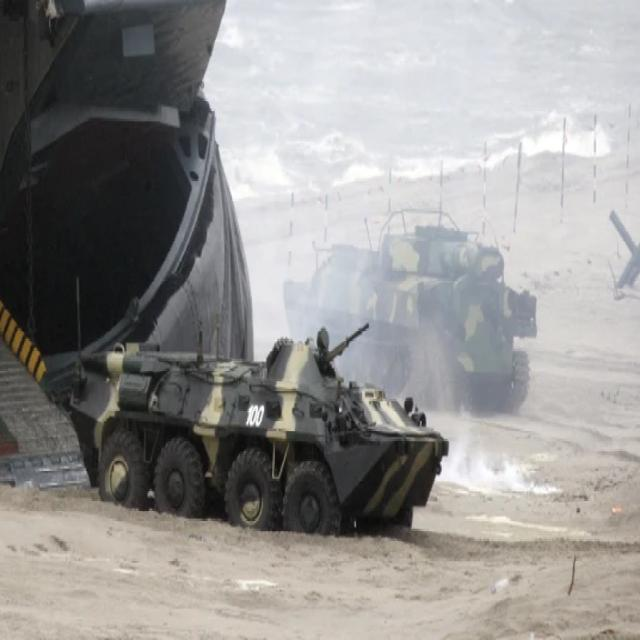APC-IFV: (72, 320, 454, 542), (282, 218, 537, 418)
